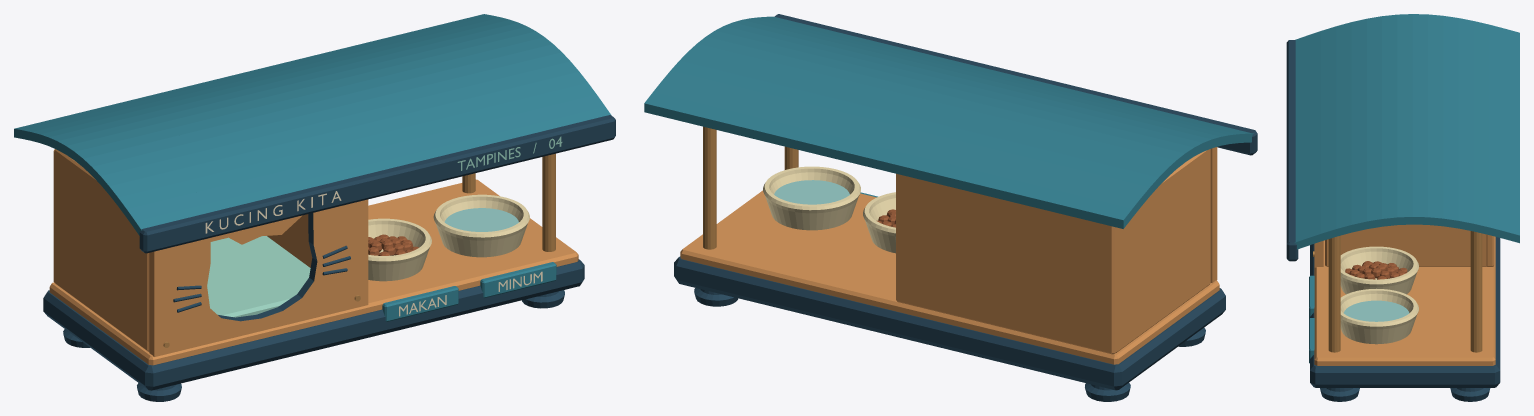
3 renders of one model, left to right at view 1: azimuth 30°, elevation 25°; view 2: azimuth 150°, elevation 25°; view 3: azimuth 270°, elevation 25°, orthographic. The views are drawn at different scales.
Visible parts, largest first — view 1: Rolled awning, Cat silhouette fascia, Cubby sides, Awning valance, Washable sill, Apricot deck, Sleeping pad, Ceramic dishes, Bowl labels, Canopy stays, Drinking water, Leveling feet (+3 smaller); view 2: Rolled awning, Cubby back, Apricot deck, Washable sill, Cubby sides, Ceramic dishes, Awning valance, Canopy stays, Drinking water, Leveling feet, Cat silhouette fascia; view 3: Rolled awning, Apricot deck, Washable sill, Ceramic dishes, Cubby sides, Canopy stays, Awning valance, Drinking water, Leveling feet, Dry food, Bowl labels, Cubby back (+1 smaller).
Boxes of the visible parts, left/top/right/bottom form: Rolled awning: left=14, top=14, right=611, bottom=235; Cat silhouette fascia: left=149, top=199, right=368, bottom=356; Cubby sides: left=55, top=149, right=312, bottom=351; Awning valance: left=139, top=115, right=615, bottom=253; Washable sill: left=43, top=259, right=584, bottom=390; Apricot deck: left=49, top=179, right=578, bottom=365; Sleeping pad: left=207, top=236, right=310, bottom=317; Ceramic dishes: left=368, top=194, right=529, bottom=281; Bowl labels: left=382, top=262, right=556, bottom=321; Canopy stays: left=462, top=153, right=555, bottom=251; Drinking water: left=444, top=208, right=518, bottom=231; Leveling feet: left=63, top=290, right=564, bottom=401; Rolled awning: left=644, top=16, right=1253, bottom=228; Cubby back: left=896, top=173, right=1116, bottom=354; Apricot deck: left=680, top=190, right=1219, bottom=364; Washable sill: left=674, top=256, right=1225, bottom=390; Cubby sides: left=1116, top=149, right=1210, bottom=352; Ceramic dishes: left=763, top=166, right=895, bottom=253; Awning valance: left=774, top=14, right=1257, bottom=155; Canopy stays: left=703, top=126, right=798, bottom=249; Drinking water: left=774, top=180, right=849, bottom=204; Leveling feet: left=694, top=288, right=1205, bottom=401; Cat silhouette fascia: left=1210, top=147, right=1217, bottom=282; Rolled awning: left=1294, top=14, right=1519, bottom=249; Apricot deck: left=1314, top=236, right=1495, bottom=365; Washable sill: left=1310, top=237, right=1500, bottom=387; Ceramic dishes: left=1340, top=246, right=1418, bottom=344; Cubby sides: left=1325, top=224, right=1486, bottom=266; Canopy stays: left=1328, top=231, right=1482, bottom=352; Awning valance: left=1286, top=40, right=1298, bottom=261; Drinking water: left=1343, top=300, right=1409, bottom=321; Leveling feet: left=1320, top=388, right=1490, bottom=401; Dry food: left=1345, top=261, right=1407, bottom=279; Bowl labels: left=1309, top=275, right=1314, bottom=363; Cubby back: left=1486, top=234, right=1494, bottom=266.
Size of the model in its own units: 1.92 by 0.8627 by 0.933.
